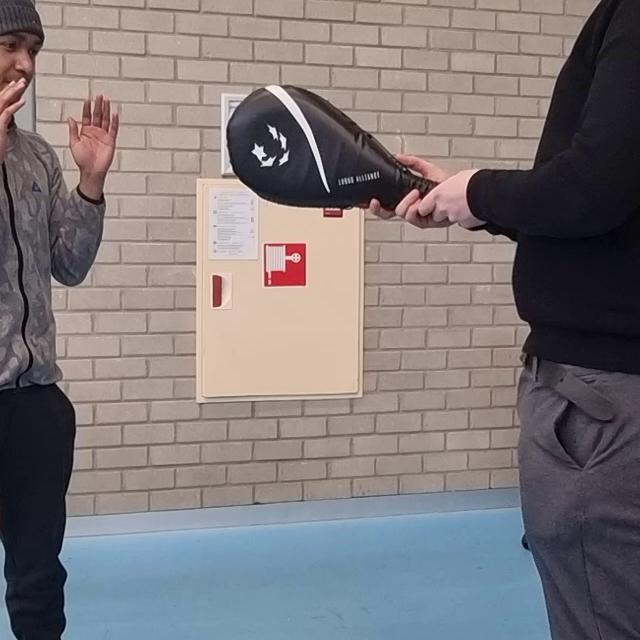paddle: (224, 83, 436, 209)
